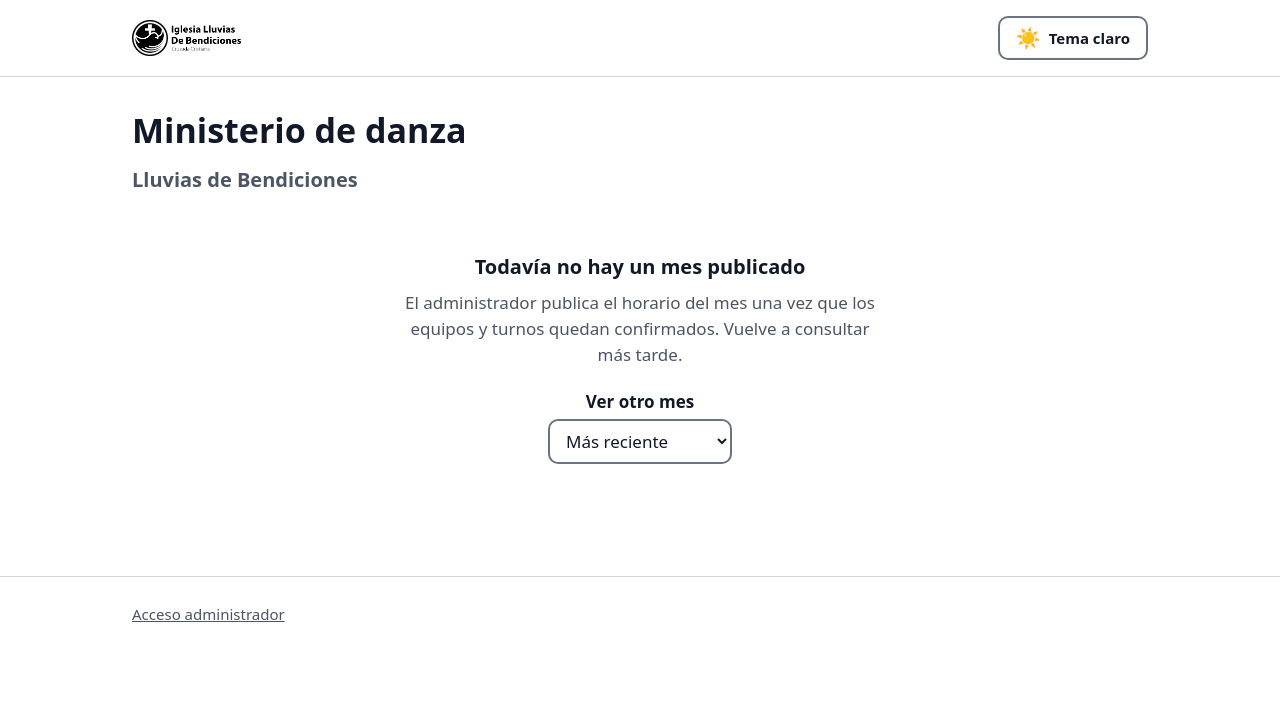
Test: PublicSchedule (ruta pública, sin login) › en el estado vacío, si el historial ya tiene un mes disponible (ej. el mes siguiente adelantado), ofrece el selector para llegar a él
Check: the text "Todavía no hay un mes publicado" is shown, box [475, 250, 805, 282]
Select "Septiembre 2026" in the dropdown labelled "Ver otro mes" at (640, 441), box [548, 419, 732, 464]
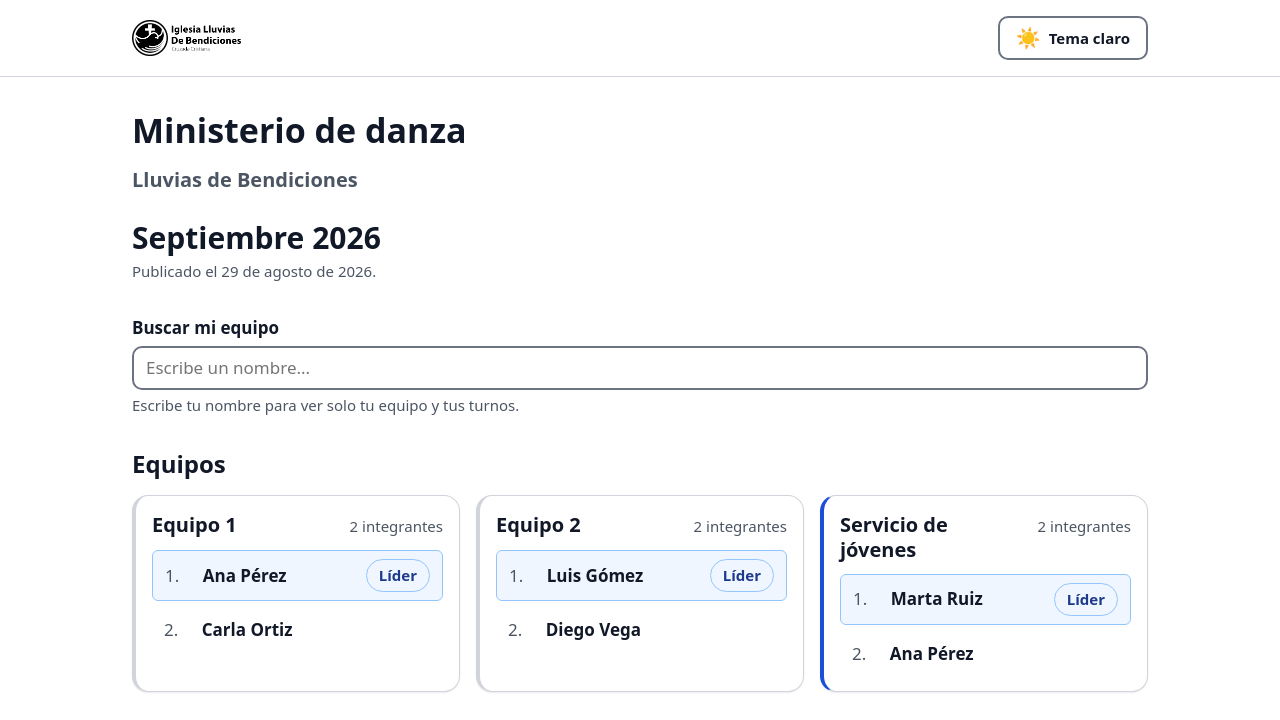
Check: the heading "Septiembre 2026" is shown, box [132, 216, 381, 258]
